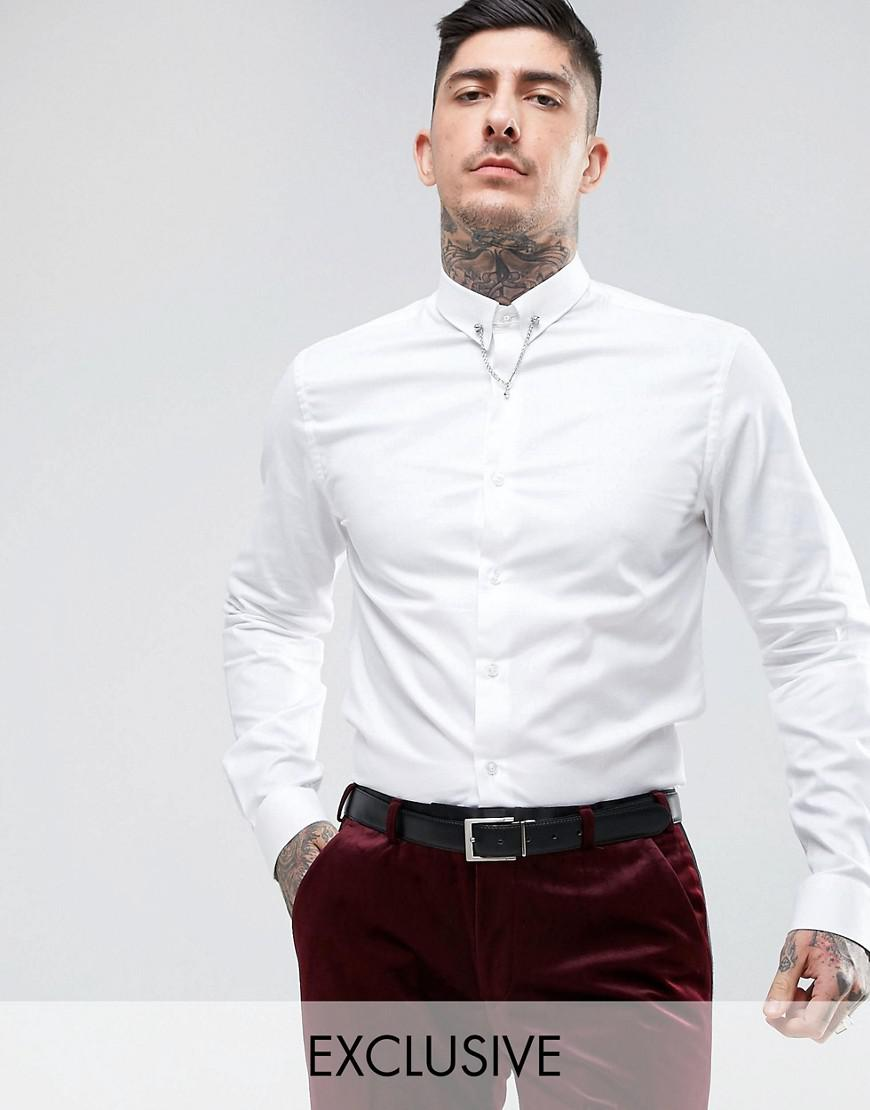teeshirt: (208, 271, 870, 941)
